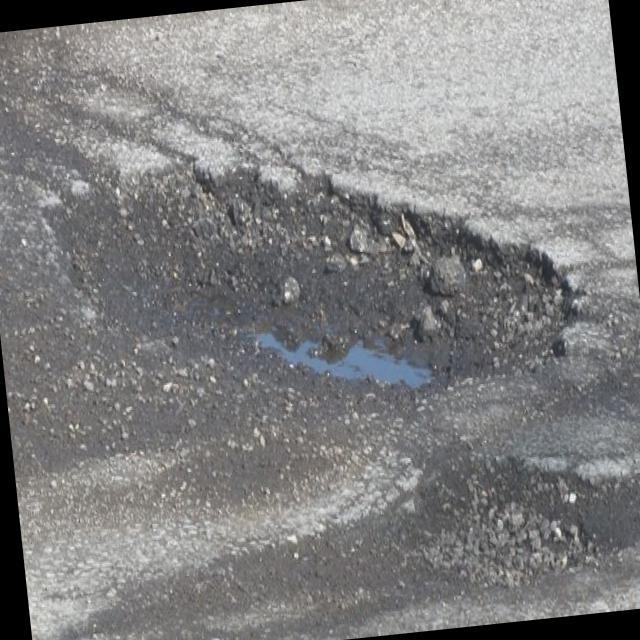Pothole: (47, 159, 570, 395)
